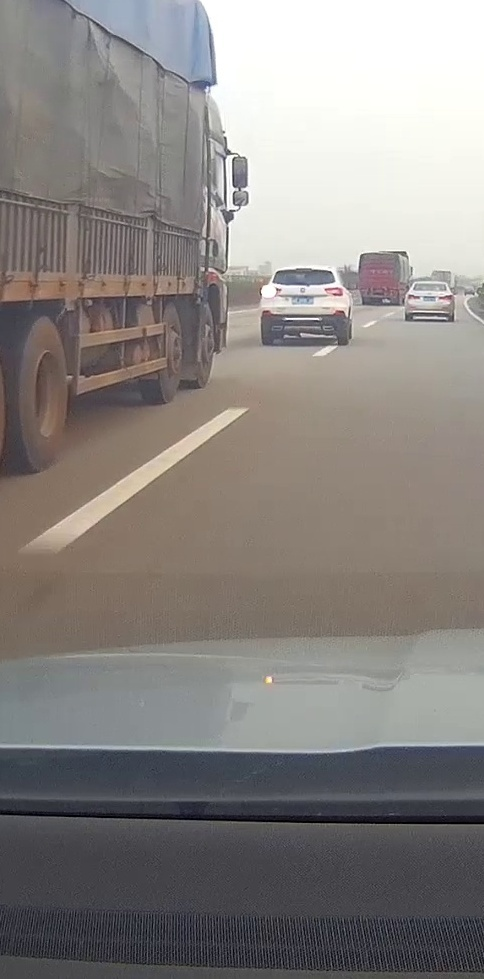L_light: (260, 284, 282, 298), (408, 294, 420, 300)
R_light: (324, 286, 344, 296), (439, 294, 453, 300)
T_light: (296, 267, 311, 270), (427, 283, 435, 285)
day-left: (258, 264, 348, 344)
day-no: (404, 280, 454, 320)
